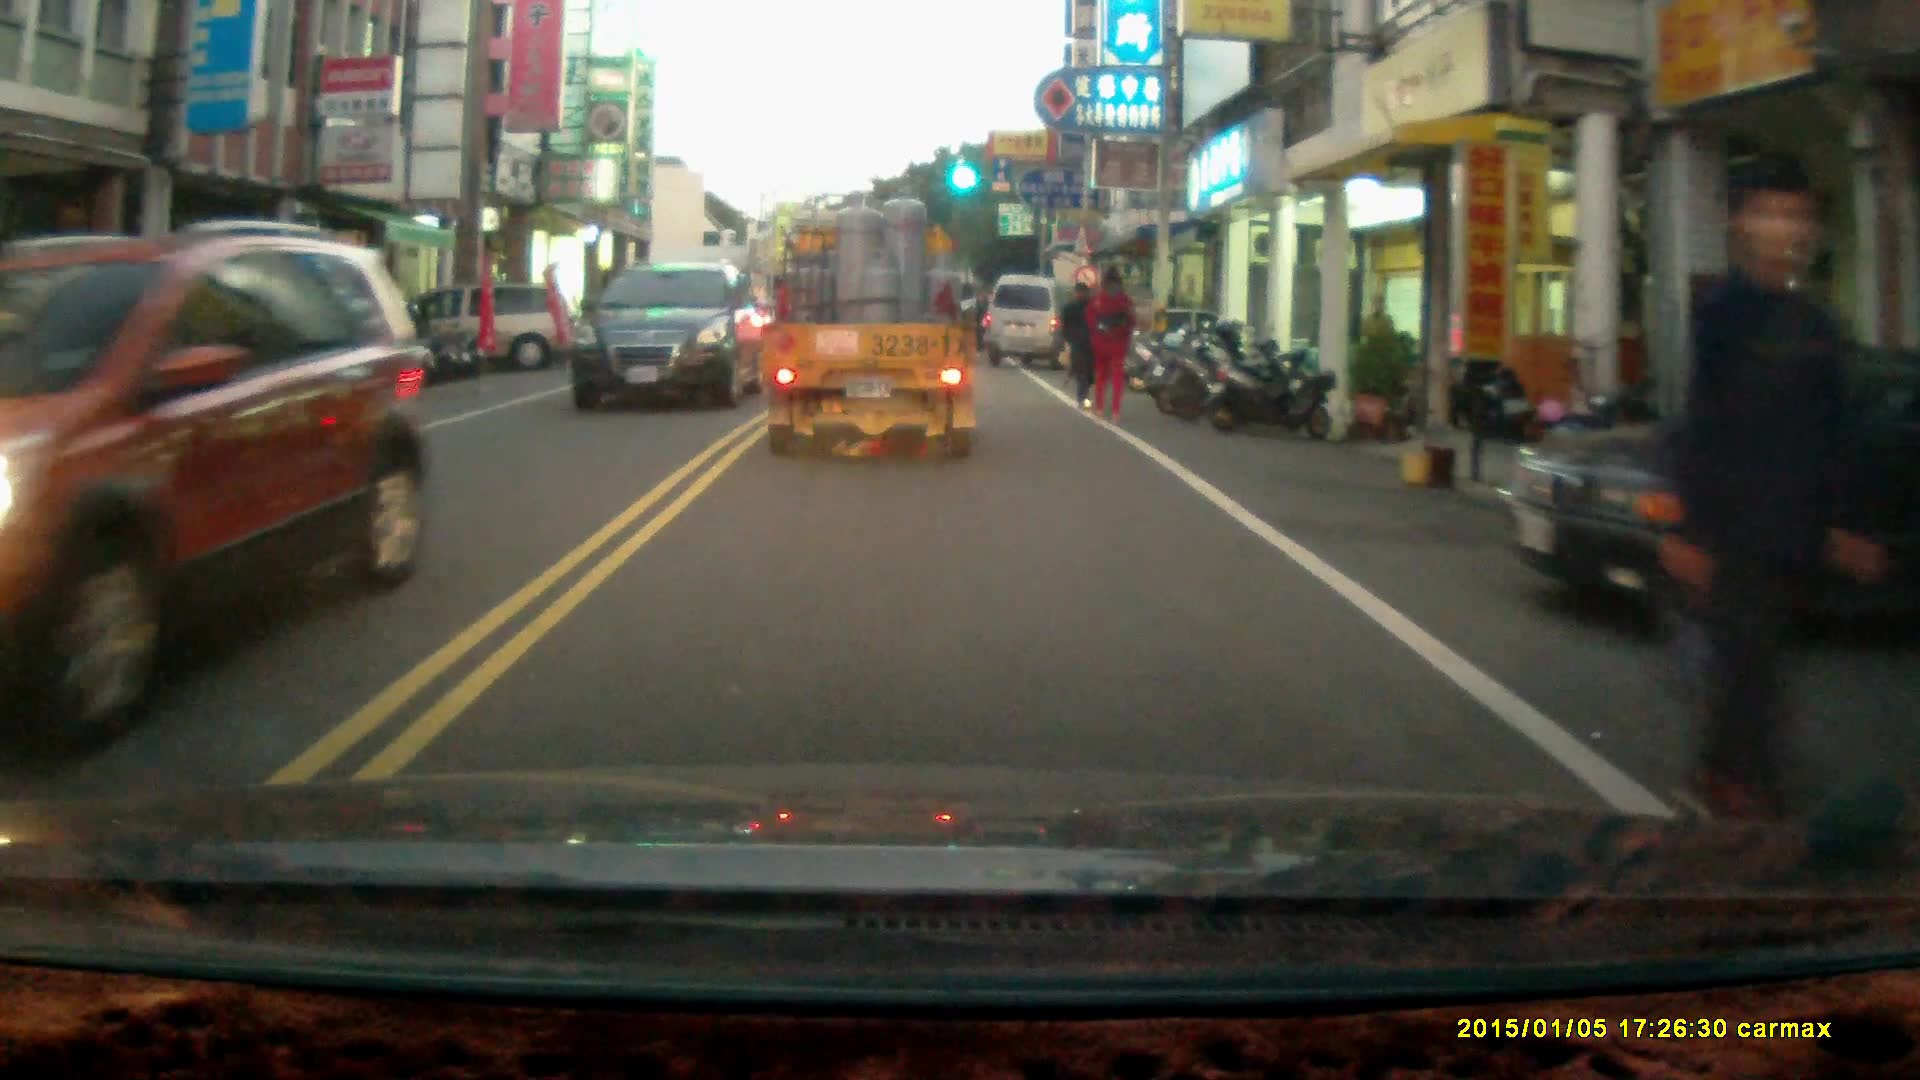pedestrian: (1659, 162, 1886, 858), (1087, 265, 1134, 420), (1060, 274, 1102, 407), (1358, 290, 1396, 389)
vehicle: (1, 222, 460, 706), (1490, 355, 1920, 641), (758, 181, 987, 468), (572, 260, 768, 414), (360, 276, 592, 373), (986, 270, 1081, 369)
